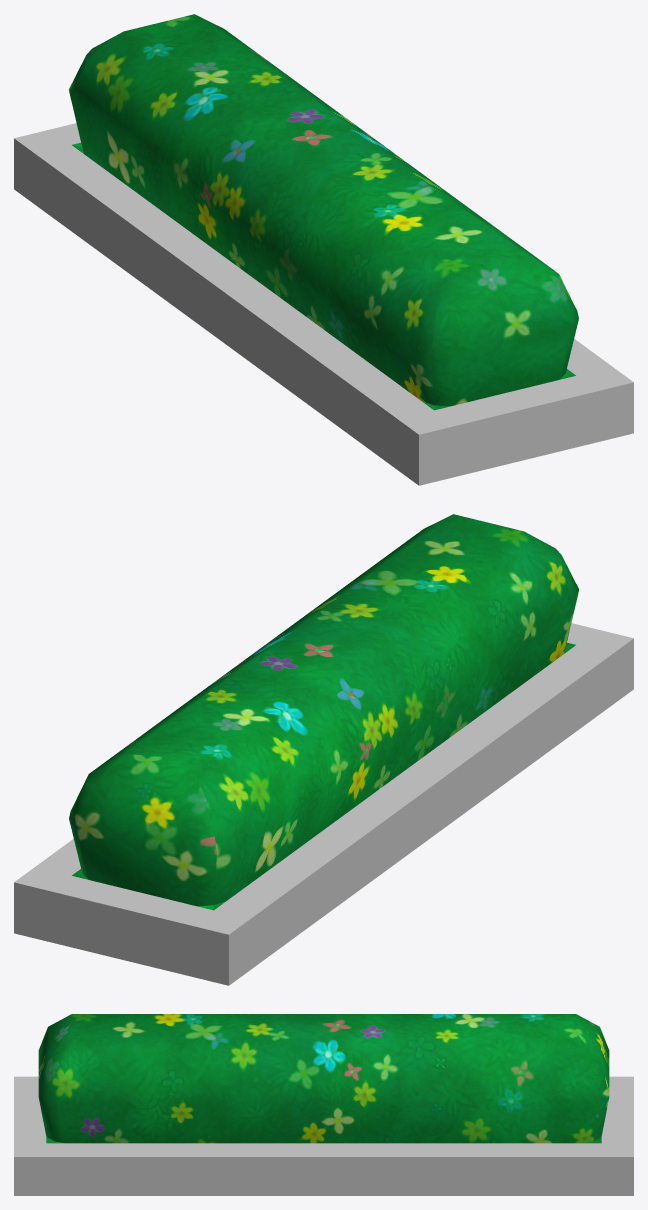
File: Plant02_c04.FBX
The picture shows the model from 3 angles, top to bottom: view 1: azimuth 30°, elevation 25°; view 2: azimuth 150°, elevation 25°; view 3: azimuth 270°, elevation 25°; orthographic projection. The views are drawn at different scales.
Visible parts, largest first — view 1: Plant02_c04; view 2: Plant02_c04; view 3: Plant02_c04.
Boxes of the visible parts, x1,y1,x2,y2 form: Plant02_c04: (14, 14, 633, 485); Plant02_c04: (14, 514, 633, 985); Plant02_c04: (14, 1014, 633, 1195).
Size of the model in its own units: 208 by 155 by 678.
